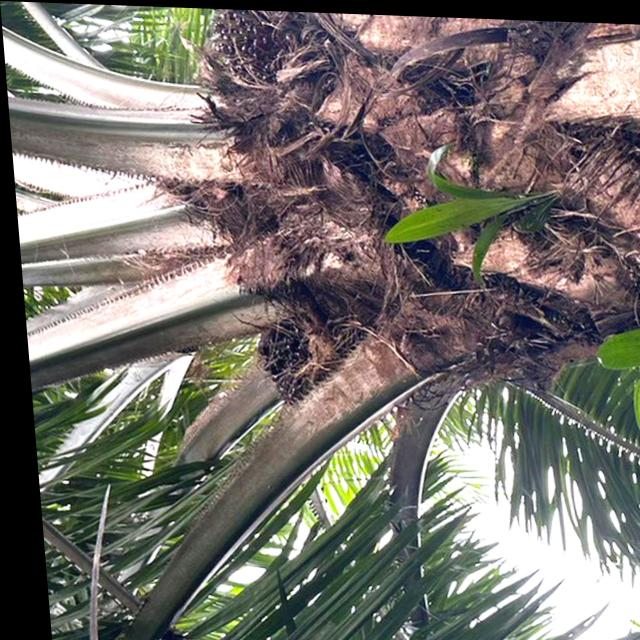unripe: (244, 297, 343, 417)
